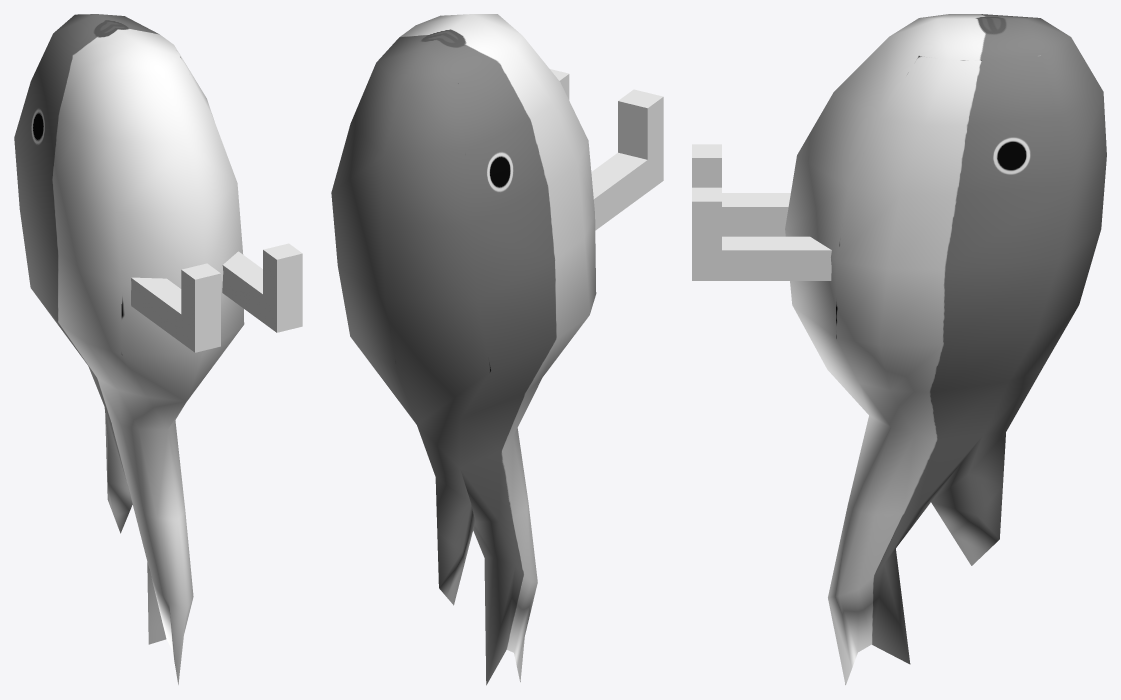
Rendered from Blowfish.fbx.
3 renders of one model, left to right at view 1: azimuth 30°, elevation 25°; view 2: azimuth 150°, elevation 25°; view 3: azimuth 270°, elevation 25°, orthographic. The views are drawn at different scales.
Visible parts, largest first — view 1: Circle001; view 2: Circle001; view 3: Circle001.
Boxes of the visible parts, <box> form: Circle001: <box>14,14,302,684</box>; Circle001: <box>331,14,663,685</box>; Circle001: <box>692,14,1106,685</box>.
Bounding box in the file's own units: 109 × 420 × 237.
